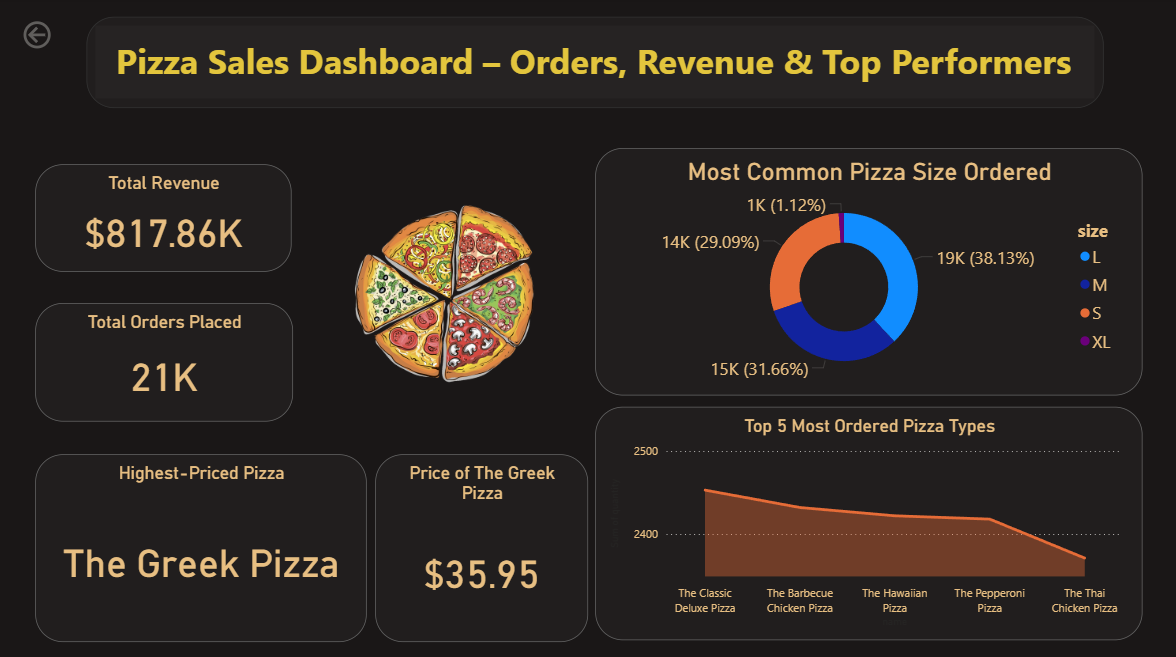

This screenshot's page, from the dashboard's own definition file:
{"tool":"powerbi","page":{"name":"Page 1","canvas":[1280,720],"ordinal":0},"visuals":[{"type":"card","title":"Total Orders Placed","fields":{"Values":["Sum(total_orders.total_orders)"]},"box":[39.4,331.3,279.7,129],"z":0},{"type":"card","title":"Total Revenue","fields":{"Values":["Sum(total_sales.total_sales)"]},"box":[39.4,180.6,278.3,116.8],"z":1000},{"type":"actionButton","box":[21.7,20.4,100.5,39.4],"z":2000},{"type":"donutChart","title":"Most Common Pizza Size Ordered ","fields":{"Category":["most_common_size_ordered.size"],"Y":["Sum(most_common_size_ordered.order_count)"],"Series":["most_common_size_ordered.size"]},"box":[647.6,162.9,594.7,268.8],"z":3000},{"type":"areaChart","title":"Top 5 Most Ordered Pizza Types","fields":{"Category":["most_ordered_pizza_types.name"],"Y":["Sum(most_ordered_pizza_types.quantity)"]},"box":[647.6,444,594.7,253.9],"z":4000},{"type":"card","title":"Highest-Priced Pizza ","fields":{"Values":["Min(highest_priced.name)"]},"box":[39.4,495.5,359.8,203.6],"z":5000},{"type":"card","title":"Price of The Greek Pizza","fields":{"Values":["Sum(highest_priced.price)"]},"box":[408.7,495.5,230.8,203.6],"z":6000},{"type":"textbox","box":[122.2,20.4,1078,116.8],"z":7000},{"type":"image","box":[285.1,207.7,395.1,224],"z":8000},{"type":"shape","box":[95,20.4,1105.1,99.1],"z":9000}]}

Visuals, with their boxes in screenshot pixels (x1, y1, x2, y2), scaled from the page's 1280x720 canvas onto the 1176x657 screenshot:
"Total Orders Placed" card: 36, 302, 293, 420
"Total Revenue" card: 36, 165, 292, 271
actionButton: 20, 19, 112, 55
"Most Common Pizza Size Ordered " donutChart: 595, 149, 1141, 394
"Top 5 Most Ordered Pizza Types" areaChart: 595, 405, 1141, 637
"Highest-Priced Pizza " card: 36, 452, 367, 638
"Price of The Greek Pizza" card: 375, 452, 588, 638
textbox: 112, 19, 1103, 125
image: 262, 190, 625, 394
shape: 87, 19, 1103, 109
